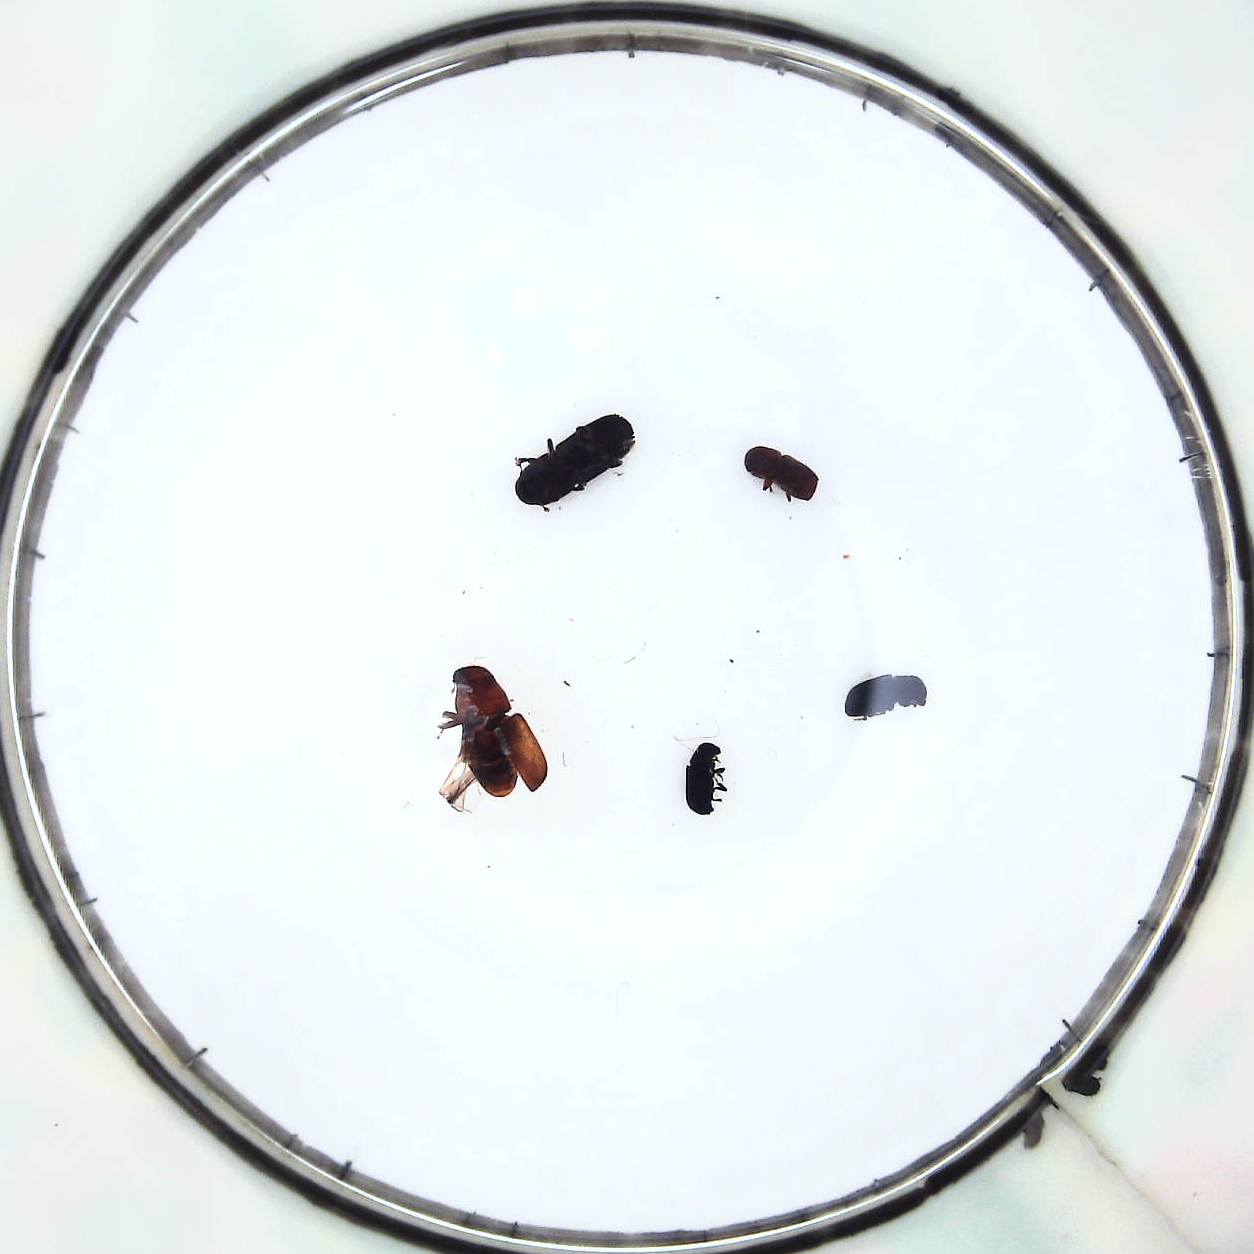Boerner: (513, 410, 638, 505)
Leconte: (429, 663, 544, 807)
Linnaeus: (742, 446, 822, 505)
armandi: (849, 663, 926, 727)
coleoptera: (678, 734, 730, 807)
